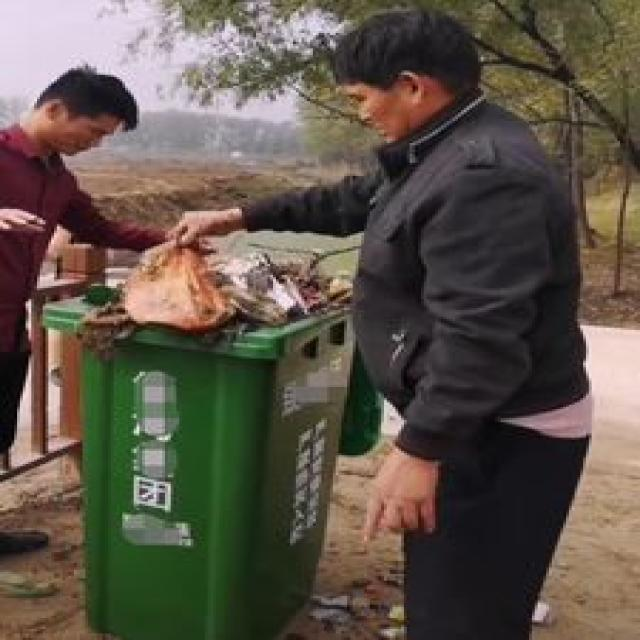overflow: (37, 233, 350, 638)
